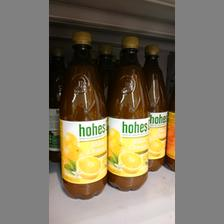Saft: (58, 30, 106, 198), (107, 35, 147, 191)
